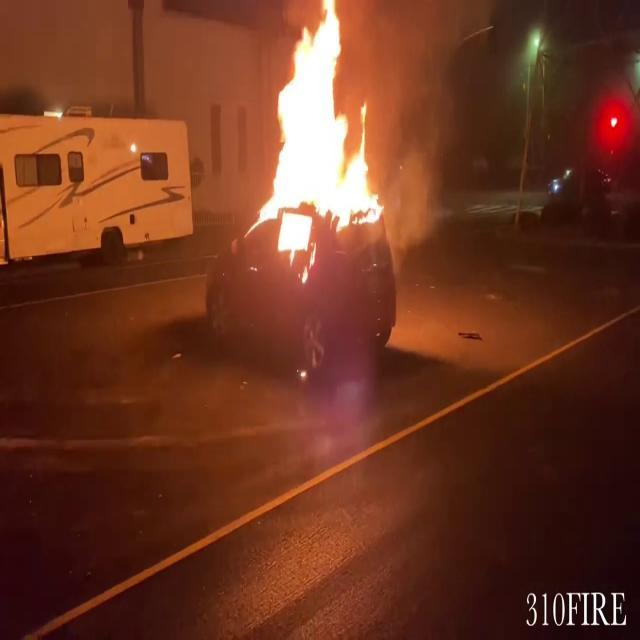Fire: (252, 1, 388, 240)
